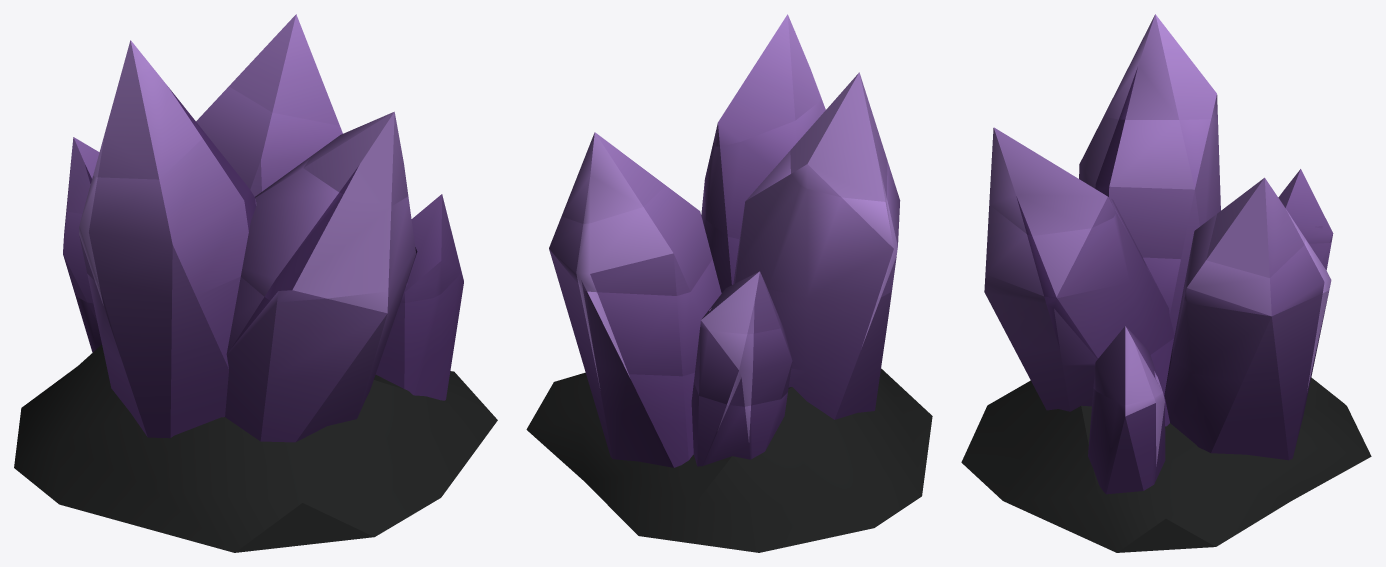
File: Violet_stone.fbx
3 views of the same model, side by side, from view 1: azimuth 30°, elevation 25°; view 2: azimuth 150°, elevation 25°; view 3: azimuth 270°, elevation 25° (orthographic). The views are drawn at different scales.
Visible parts, largest first — view 1: Мiolet_stone; view 2: Мiolet_stone; view 3: Мiolet_stone.
Part boxes in pixels (box(x1,y1,x2,y2)): Мiolet_stone: box(14, 14, 497, 552); Мiolet_stone: box(526, 14, 932, 552); Мiolet_stone: box(961, 14, 1371, 552).
Size of the model in its own units: 1.86 by 1.82 by 1.92.
